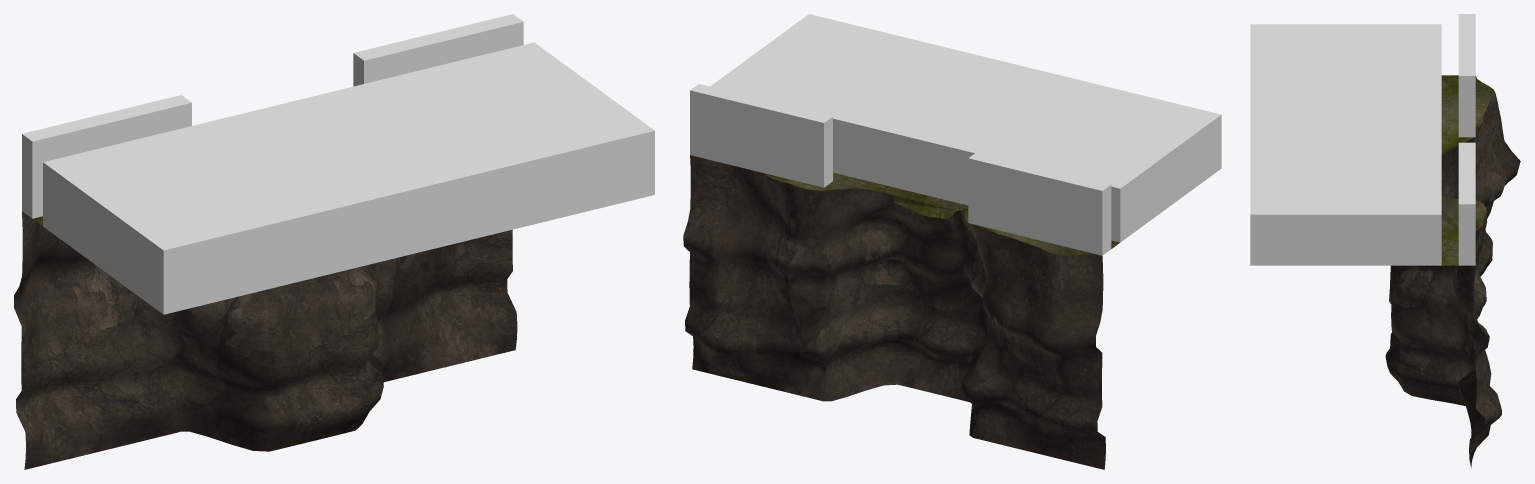
File: cliff_edge_waterfall_notch_8m.glb
3 views of the same model, side by side, from view 1: azimuth 30°, elevation 25°; view 2: azimuth 150°, elevation 25°; view 3: azimuth 270°, elevation 25° (orthographic). The views are drawn at different scales.
Visible parts, largest first — view 1: col_walk_cliff_edge_waterfall_notch_8m, cliff_edge_waterfall_notch_8m, col_block_rim_cliff_edge_waterfall_notch_8m_0, col_block_rim_cliff_edge_waterfall_notch_8m_1; view 2: cliff_edge_waterfall_notch_8m, col_walk_cliff_edge_waterfall_notch_8m, col_block_rim_cliff_edge_waterfall_notch_8m_0, col_block_rim_cliff_edge_waterfall_notch_8m_1; view 3: col_walk_cliff_edge_waterfall_notch_8m, cliff_edge_waterfall_notch_8m, col_block_rim_cliff_edge_waterfall_notch_8m_0, col_block_rim_cliff_edge_waterfall_notch_8m_1.
Boxes of the visible parts, left/top/right/bottom form: col_walk_cliff_edge_waterfall_notch_8m: left=43, top=42, right=654, bottom=314; cliff_edge_waterfall_notch_8m: left=14, top=211, right=517, bottom=469; col_block_rim_cliff_edge_waterfall_notch_8m_0: left=22, top=95, right=191, bottom=218; col_block_rim_cliff_edge_waterfall_notch_8m_1: left=353, top=14, right=523, bottom=86; cliff_edge_waterfall_notch_8m: left=683, top=155, right=1119, bottom=469; col_walk_cliff_edge_waterfall_notch_8m: left=710, top=14, right=1221, bottom=242; col_block_rim_cliff_edge_waterfall_notch_8m_0: left=968, top=152, right=1111, bottom=255; col_block_rim_cliff_edge_waterfall_notch_8m_1: left=690, top=84, right=832, bottom=187; col_walk_cliff_edge_waterfall_notch_8m: left=1250, top=24, right=1441, bottom=265; cliff_edge_waterfall_notch_8m: left=1385, top=75, right=1520, bottom=467; col_block_rim_cliff_edge_waterfall_notch_8m_0: left=1458, top=14, right=1475, bottom=137; col_block_rim_cliff_edge_waterfall_notch_8m_1: left=1458, top=142, right=1475, bottom=265.
Size of the model in its own units: 8 by 5.2 by 4.8.
Materials: 2 (2 with a texture image).
